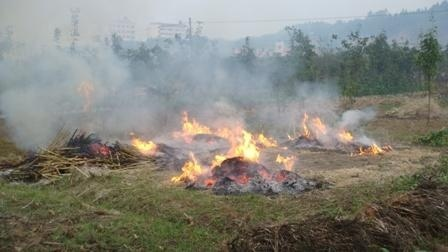fire: (168, 113, 292, 188), (286, 111, 383, 150), (126, 129, 159, 155), (74, 78, 97, 111)
